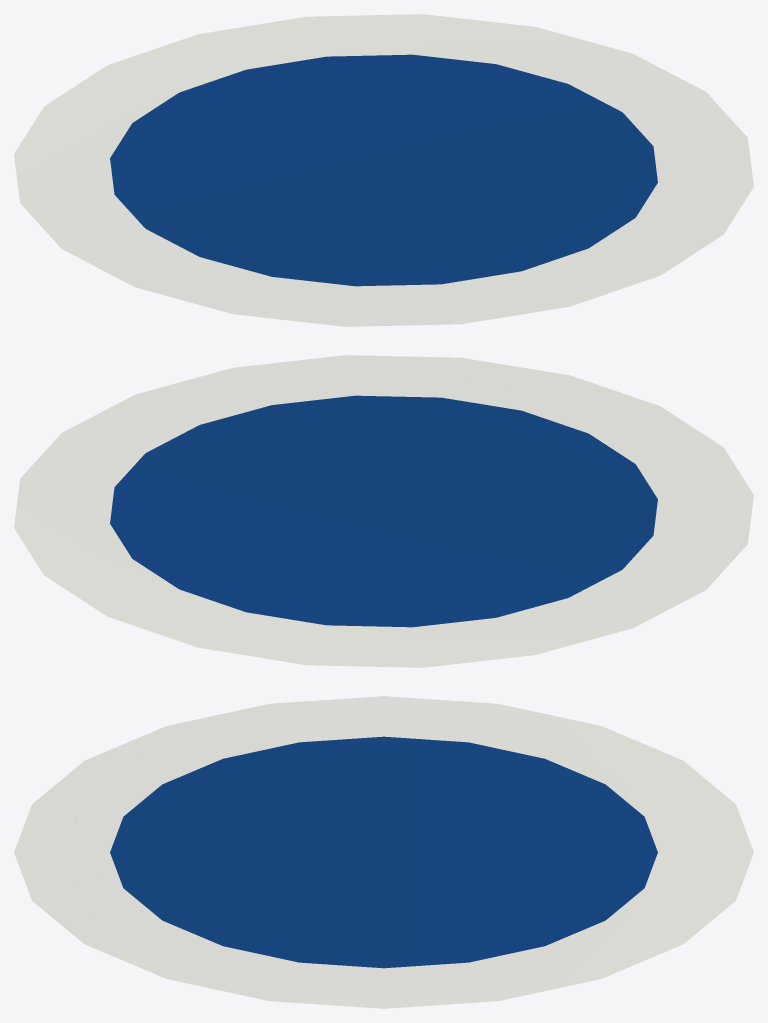
The model's file is top_cycle.fbx.
3 renders of one model, top to bottom at view 1: azimuth 30°, elevation 25°; view 2: azimuth 150°, elevation 25°; view 3: azimuth 270°, elevation 25°, orthographic.
Parts seen in each view (by area): view 1: top_cycle; view 2: top_cycle; view 3: top_cycle.
Part boxes in pixels (x1,y1,x2,y2): top_cycle: (14,14,753,326); top_cycle: (14,355,753,667); top_cycle: (14,696,753,1008).
Bounding box in the file's own units: 4.25 × 0 × 4.25.
